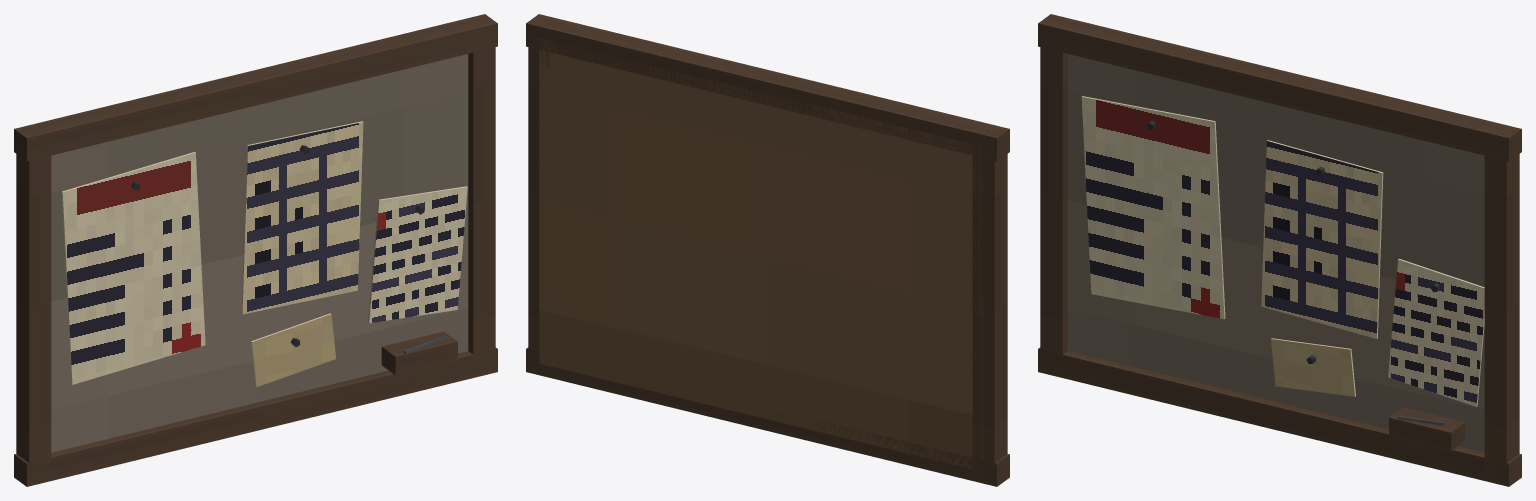
Rendered from watch-bill-board.glb.
3 renders of one model, left to right at view 1: azimuth 30°, elevation 25°; view 2: azimuth 150°, elevation 25°; view 3: azimuth 330°, elevation 25°, orthographic.
Visible parts, largest first — view 1: watch-bill-board.001; view 2: watch-bill-board.001; view 3: watch-bill-board.001.
Boxes of the visible parts, x1=… form: watch-bill-board.001: x1=14, y1=14, x2=497, y2=486; watch-bill-board.001: x1=526, y1=14, x2=1009, y2=486; watch-bill-board.001: x1=1038, y1=14, x2=1521, y2=486.
Size of the model in its own units: 1.06 by 0.75 by 0.0881.
Materials: 1 (1 with a texture image).
